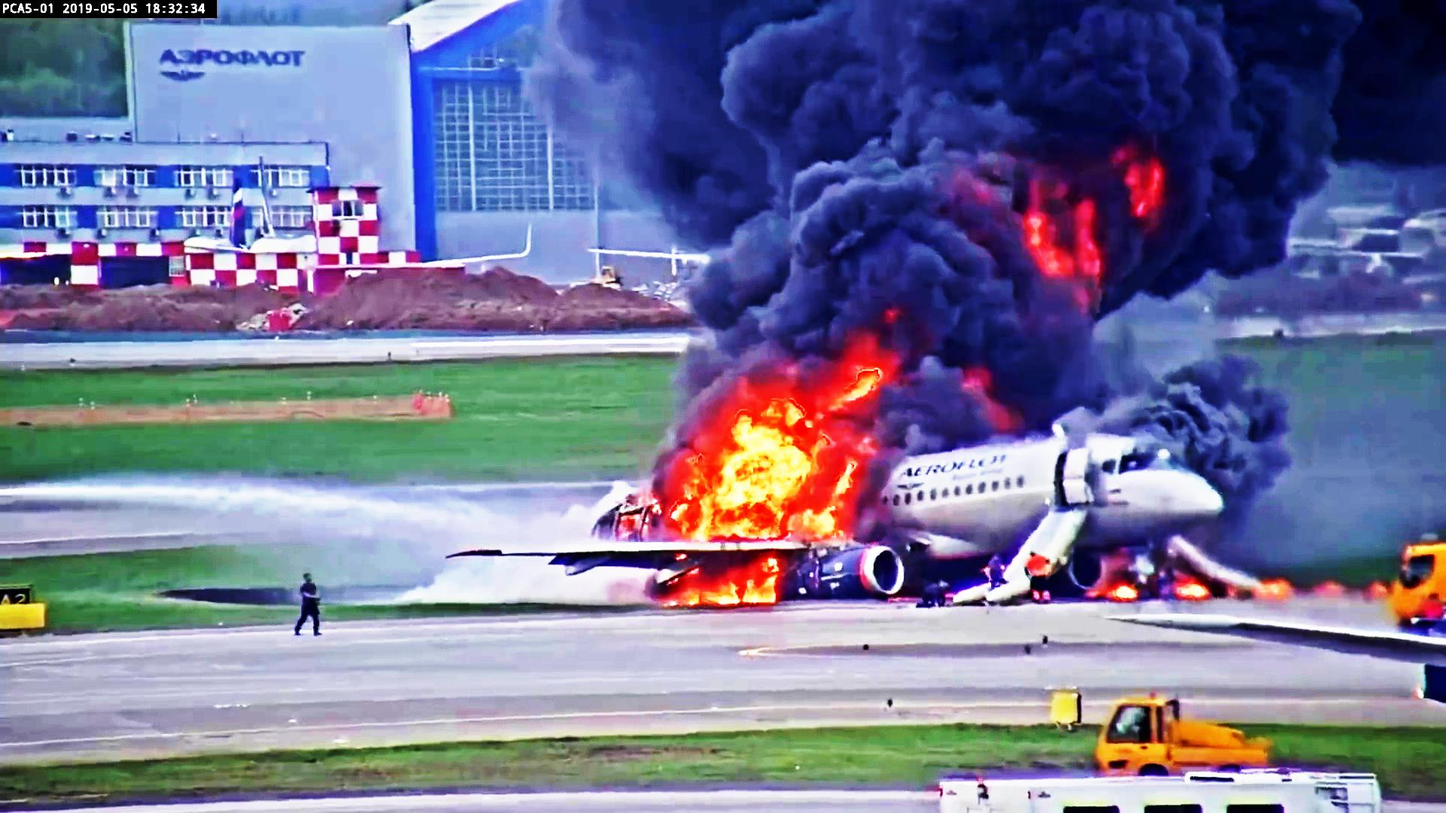fire: (701, 388, 859, 526), (703, 548, 798, 614)
smoke: (584, 0, 1362, 216)
